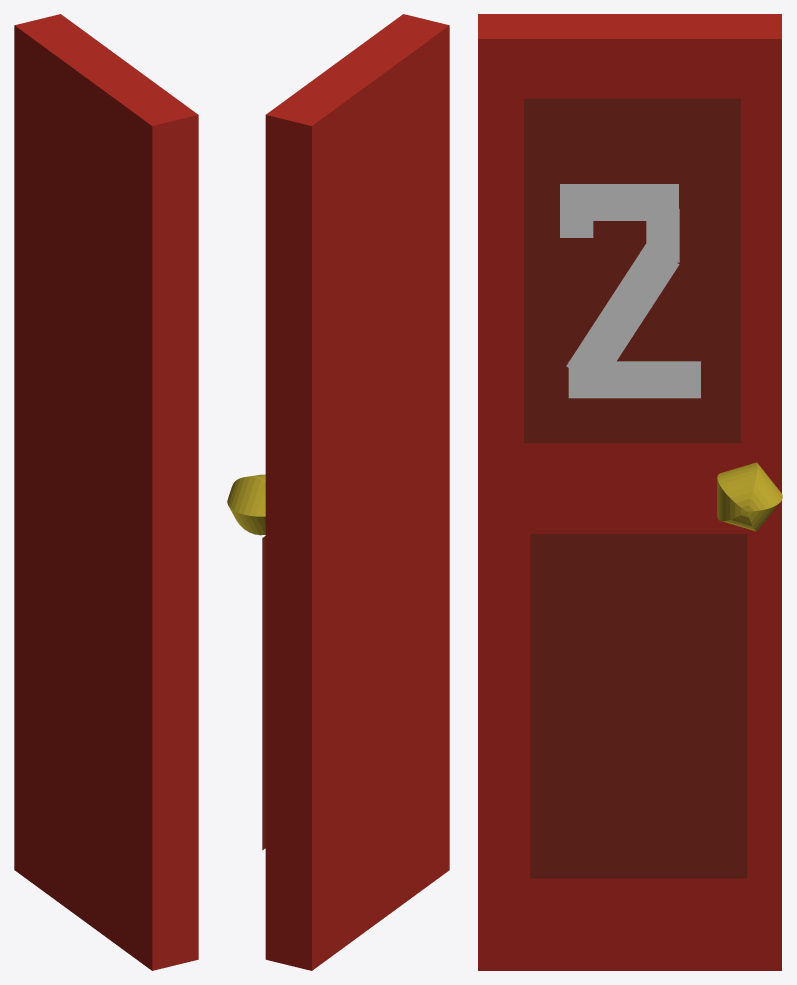
File: Door2.glb
3 renders of one model, left to right at view 1: azimuth 30°, elevation 25°; view 2: azimuth 150°, elevation 25°; view 3: azimuth 270°, elevation 25°, orthographic. The views are drawn at different scales.
Parts seen in each view (by area): view 1: Cube; view 2: Cube, Sphere, Plane.001; view 3: Cube, Plane.001, Plane, Sphere.
Part boxes in pixels (left/top/right/bottom): Cube: left=14, top=14, right=198, bottom=970; Cube: left=265, top=14, right=449, bottom=970; Sphere: left=227, top=474, right=265, bottom=535; Plane.001: left=262, top=536, right=265, bottom=850; Cube: left=478, top=14, right=781, bottom=970; Plane.001: left=524, top=98, right=747, bottom=878; Plane: left=560, top=184, right=700, bottom=398; Sphere: left=717, top=462, right=782, bottom=531.
Bounding box in the file's own units: 0.0513 × 0.4296 × 0.1273.
